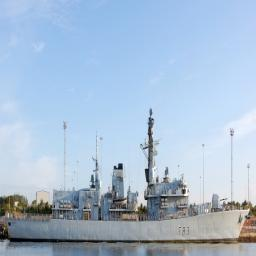Fragata: (6, 100, 253, 250)
